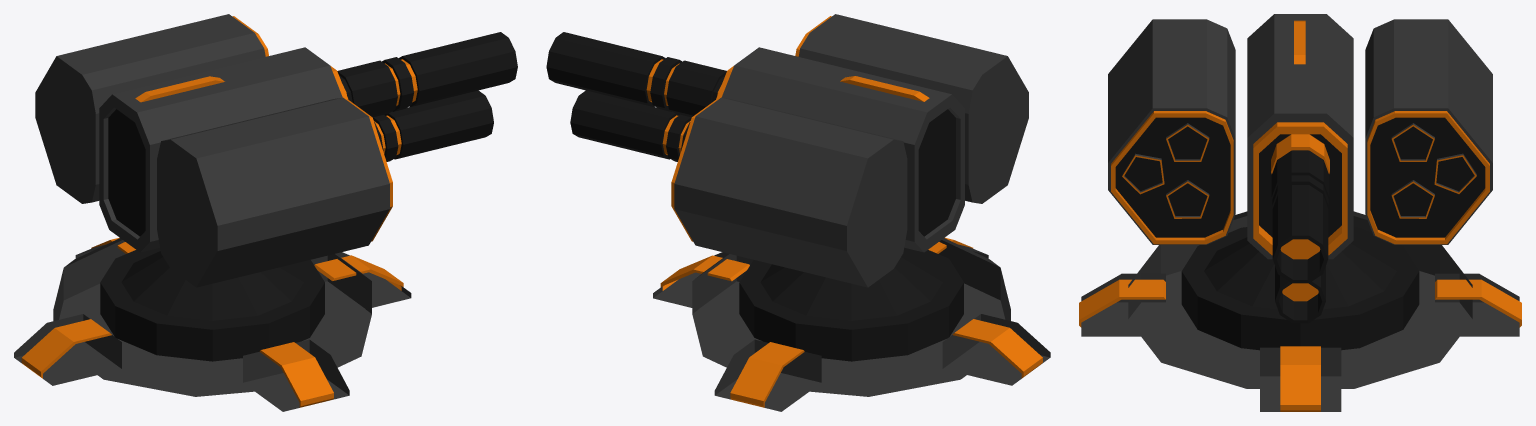
File: turret4.2.fbx
3 renders of one model, left to right at view 1: azimuth 30°, elevation 25°; view 2: azimuth 150°, elevation 25°; view 3: azimuth 270°, elevation 25°, orthographic. The views are drawn at different scales.
Visible parts, largest first — view 1: turretHead, Cube.002, Cylinder.001, Cylinder, Cylinder.007, Cube.001, turretStand, Cylinder.008; view 2: turretHead, Cube.002, Cylinder.001, Cylinder, Cylinder.007, Cube.001, turretStand, Cylinder.008; view 3: turretHead, Cylinder.001, Cube.002, Cylinder, turretStand, Cylinder.007, Cube.001, Cylinder.004, Cylinder.003, Cylinder.008, Cylinder.006, Cylinder.005.
Boxes of the visible parts, box(x1,y1,x2,y2) form: turretHead: box(35, 14, 392, 287); Cube.002: box(99, 47, 348, 252); Cylinder.001: box(100, 248, 324, 361); Cylinder: box(53, 238, 371, 396); Cylinder.007: box(337, 32, 517, 117); Cube.001: box(14, 252, 411, 385); turretStand: box(75, 237, 349, 411); Cylinder.008: box(372, 90, 493, 161); turretHead: box(671, 14, 1028, 287); Cube.002: box(716, 47, 964, 252); Cylinder.001: box(739, 247, 963, 361); Cylinder: box(692, 238, 1010, 396); Cylinder.007: box(546, 32, 726, 117); Cube.001: box(653, 252, 1050, 385); turretStand: box(714, 237, 988, 411); Cylinder.008: box(570, 90, 691, 161); turretHead: box(1108, 19, 1492, 244); Cylinder.001: box(1181, 227, 1419, 350); Cube.002: box(1247, 14, 1353, 259); Cylinder: box(1128, 211, 1472, 388); turretStand: box(1079, 273, 1521, 336); Cylinder.007: box(1271, 134, 1329, 283); Cube.001: box(1260, 346, 1341, 411); Cylinder.004: box(1166, 180, 1434, 218); Cylinder.003: box(1166, 123, 1434, 161); Cylinder.008: box(1275, 266, 1325, 323); Cylinder.006: box(1434, 153, 1476, 193); Cylinder.005: box(1122, 153, 1164, 194).
Bounding box in the file's own units: 336 × 170 × 257.
